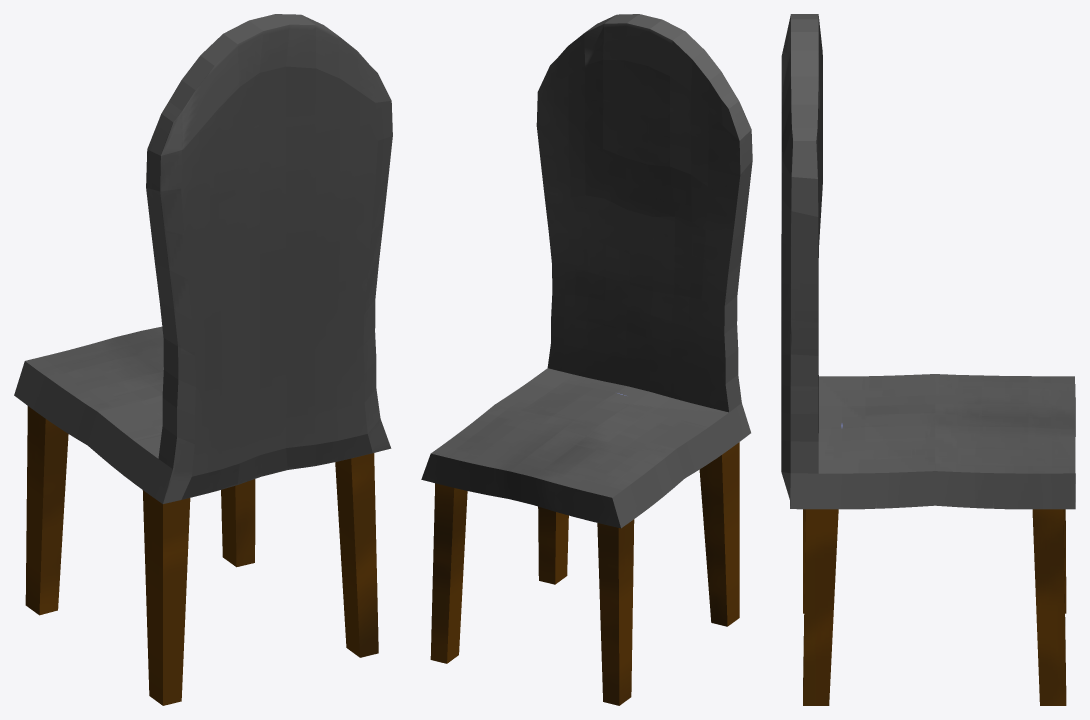
3 renders of one model, left to right at view 1: azimuth 30°, elevation 25°; view 2: azimuth 150°, elevation 25°; view 3: azimuth 270°, elevation 25°, orthographic. The views are drawn at different scales.
Visible parts, largest first — view 1: Kostka; view 2: Kostka; view 3: Kostka.
Part boxes in pixels (x1,y1,x2,y2): Kostka: (14, 14, 392, 705); Kostka: (421, 14, 752, 705); Kostka: (781, 14, 1075, 705).
Size of the model in its own units: 159 by 429 by 182.
Materials: 1 (1 with a texture image).
